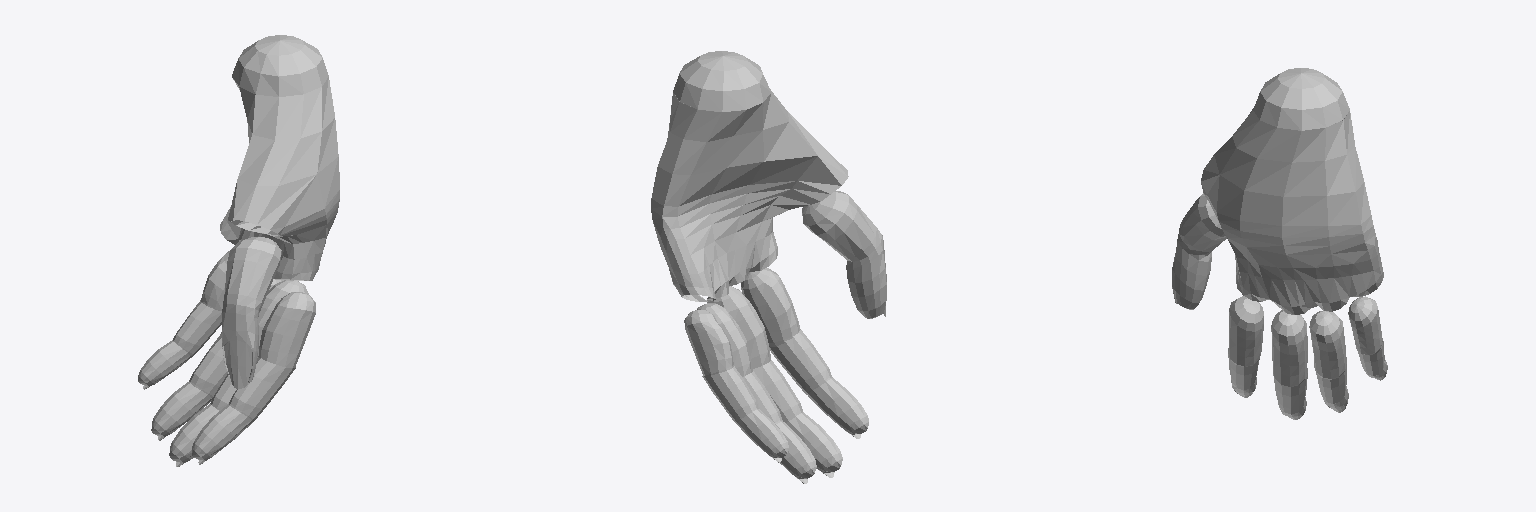
The model's file is WOM_HAND.obj.
The picture shows the model from 3 angles: view 1: azimuth 30°, elevation 25°; view 2: azimuth 150°, elevation 25°; view 3: azimuth 270°, elevation 25°; orthographic projection.
Size of the model in its own units: 2.21 by 5.15 by 2.53.